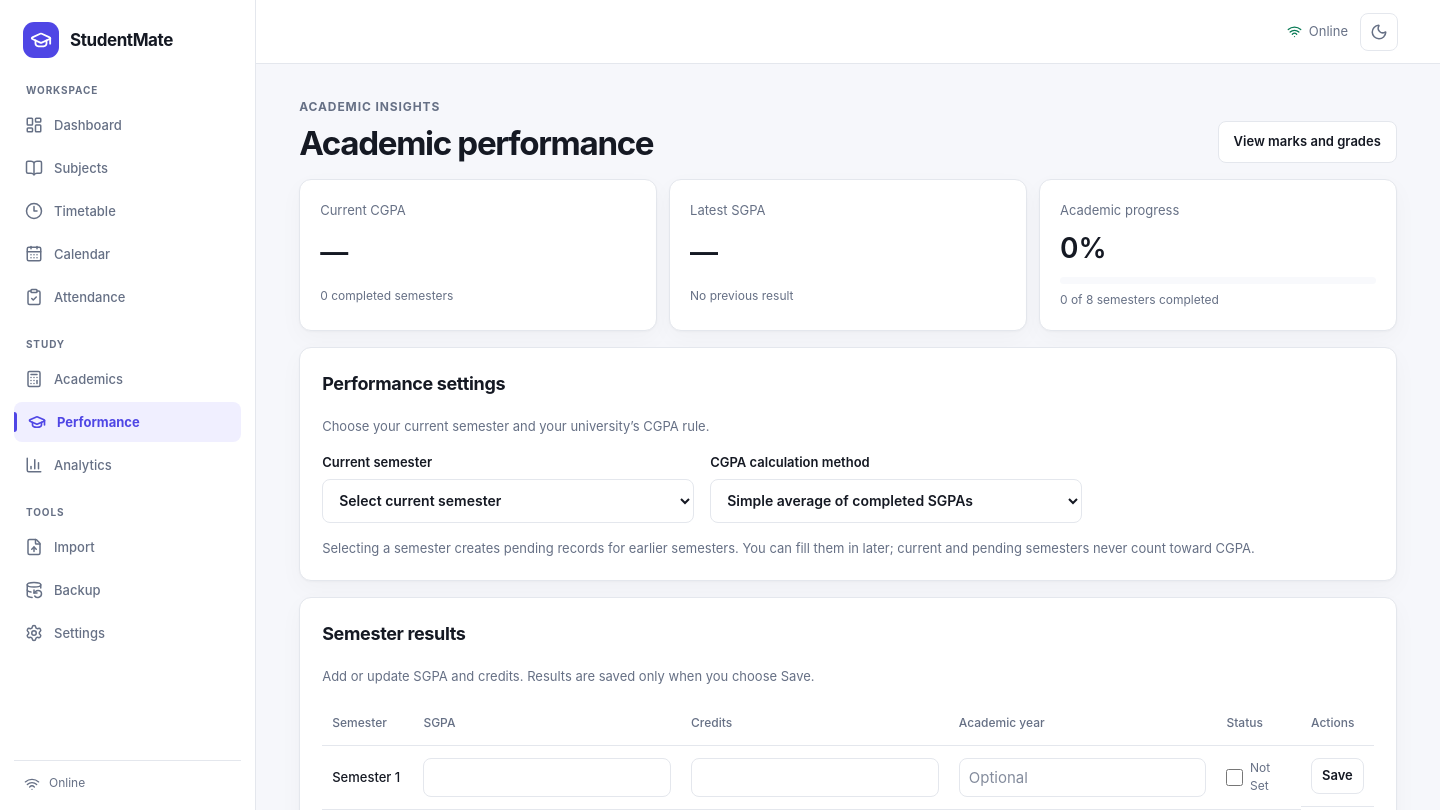
it: App › lets a student select a semester and opens the performance tracker
Expected: the heading "Academic performance" is shown, 299,124 -> 653,163
Select "Semester 3" in the dropdown labelled "Current semester": (508, 501) 322,479 -> 694,523
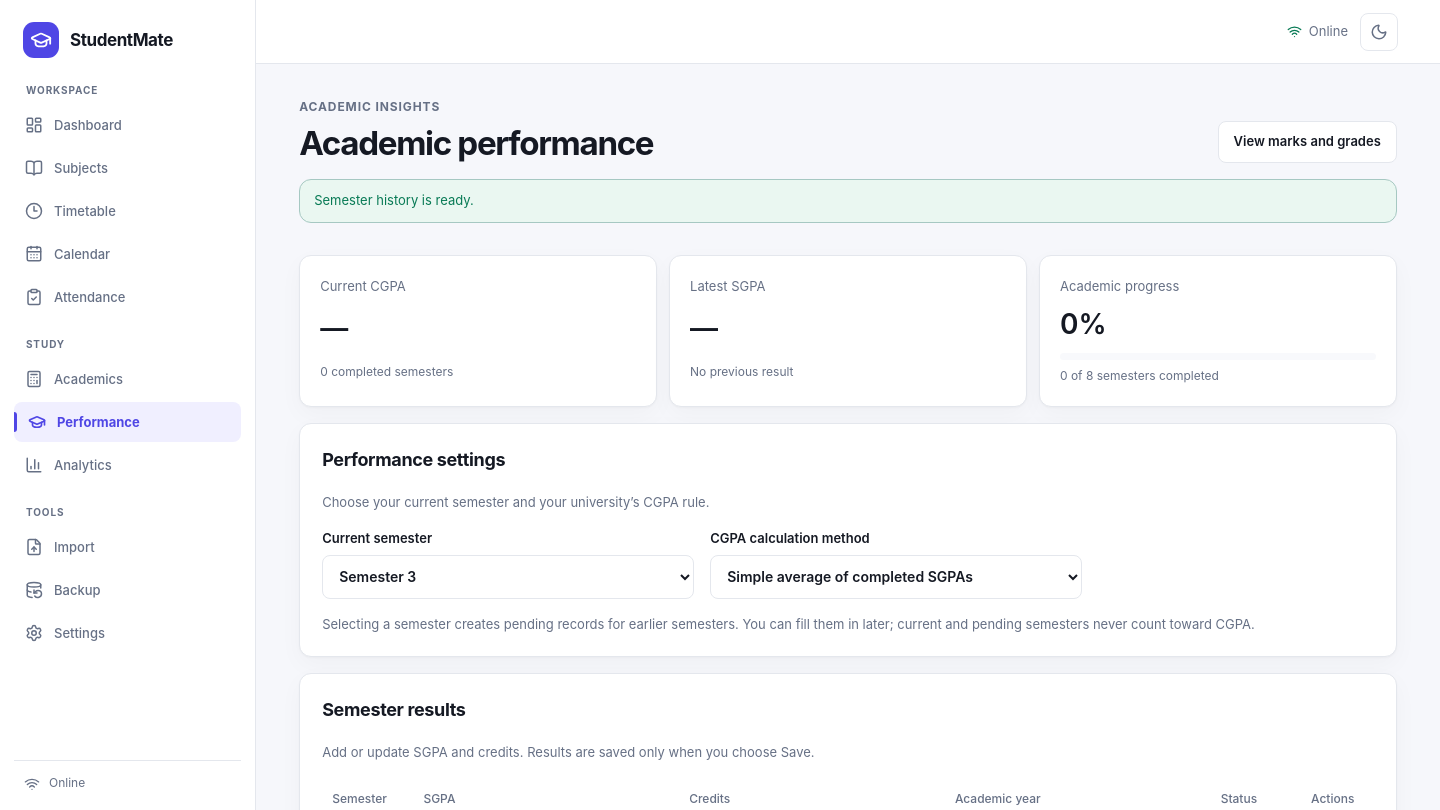
Expected: the heading "Semester results" is shown, 322,699 -> 466,720
Expected: the text "Semester history is ready." is shown, 299,179 -> 1397,223
